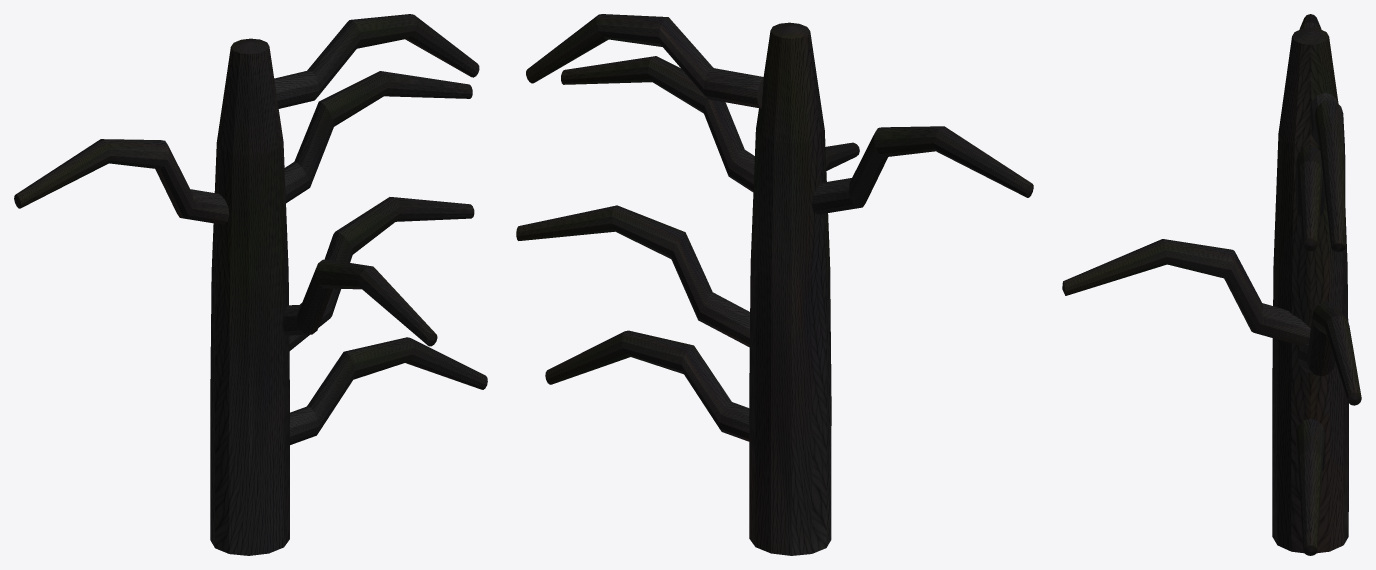
The model's file is Sticks.fbx.
3 renders of one model, left to right at view 1: azimuth 30°, elevation 25°; view 2: azimuth 150°, elevation 25°; view 3: azimuth 270°, elevation 25°, orthographic. The views are drawn at different scales.
Parts seen in each view (by area): view 1: Stick1, Stick3, Stick2; view 2: Stick1, Stick2, Stick3; view 3: Stick1, Stick3, Stick2.
Part boxes in pixels (<box>): Stick1: <box>210,38,472,555</box>; Stick3: <box>274,14,487,444</box>; Stick2: <box>14,139,474,350</box>; Stick1: <box>561,22,859,555</box>; Stick2: <box>516,126,1033,347</box>; Stick3: <box>526,14,763,441</box>; Stick1: <box>1062,28,1348,553</box>; Stick3: <box>1295,92,1345,555</box>; Stick2: <box>1297,14,1361,405</box>.
Bounding box in the file's own units: 288 × 287 × 154.
1 material, 1 textured.
